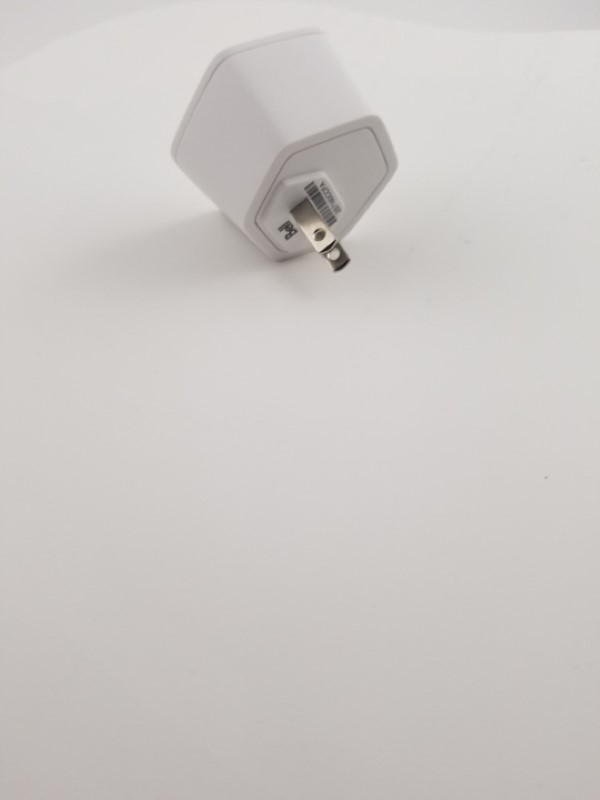pod: (167, 25, 405, 280)
